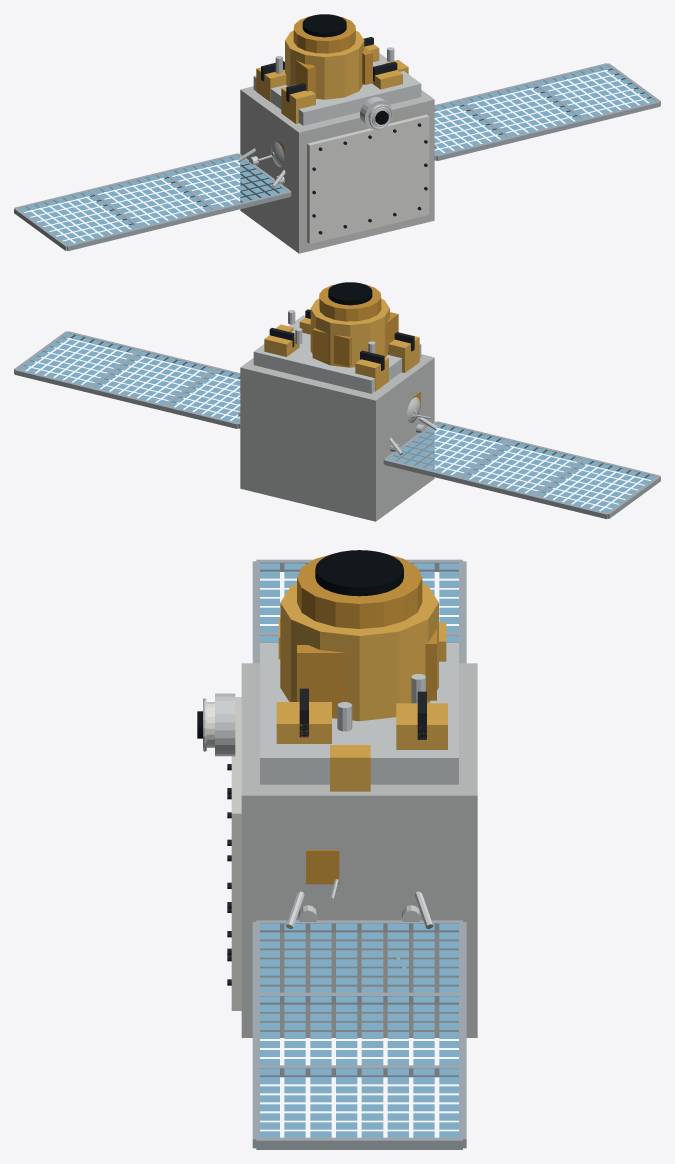
The model's file is XPOSAT.glb.
The picture shows the model from 3 angles, top to bottom: view 1: azimuth 30°, elevation 25°; view 2: azimuth 150°, elevation 25°; view 3: azimuth 270°, elevation 25°; orthographic projection. The views are drawn at different scales.
Parts seen in each view (by area): view 1: XPOSAT_CONSOLIDATED_SOLAR_CELLS, XPOSAT_FRONT_BODY_PANEL, XPOSAT_MAIN_SPACECRAFT_BUS, XPOSAT_CONSOLIDATED_SOLAR_FRAMES, XPOSAT_MAIN_XRAY_PAYLOAD_HOUSING, XPOSAT_TOP_SCIENCE_DECK, XPOSAT_UPPER_ELECTRONICS_BOXES, XPOSAT_PAYLOAD_UPPER_COLLAR, XPOSAT_MAIN_PAYLOAD_DETAILS, XPOSAT_TOP_XRAY_APERTURE, XPOSAT_UPPER_DARK_FIN_MODULES, XPOSAT_FRONT_POLARIMETER_ASSEMBLY; view 2: XPOSAT_MAIN_SPACECRAFT_BUS, XPOSAT_CONSOLIDATED_SOLAR_CELLS, XPOSAT_CONSOLIDATED_SOLAR_FRAMES, XPOSAT_TOP_SCIENCE_DECK, XPOSAT_MAIN_XRAY_PAYLOAD_HOUSING, XPOSAT_UPPER_ELECTRONICS_BOXES, XPOSAT_MAIN_PAYLOAD_DETAILS, XPOSAT_PAYLOAD_UPPER_COLLAR, XPOSAT_TOP_XRAY_APERTURE, XPOSAT_UPPER_DARK_FIN_MODULES; view 3: XPOSAT_MAIN_SPACECRAFT_BUS, XPOSAT_CONSOLIDATED_SOLAR_CELLS, XPOSAT_CONSOLIDATED_SOLAR_FRAMES, XPOSAT_TOP_SCIENCE_DECK, XPOSAT_MAIN_XRAY_PAYLOAD_HOUSING, XPOSAT_UPPER_ELECTRONICS_BOXES, XPOSAT_PAYLOAD_UPPER_COLLAR, XPOSAT_TOP_XRAY_APERTURE, XPOSAT_MAIN_PAYLOAD_DETAILS, XPOSAT_FRONT_BODY_PANEL, XPOSAT_FRONT_POLARIMETER_ASSEMBLY, XPOSAT_SIDE_EQUIPMENT_BOXES (+1 smaller).
Boxes of the visible parts, bbox=[...] form: XPOSAT_CONSOLIDATED_SOLAR_CELLS: bbox=[19, 65, 655, 244]; XPOSAT_FRONT_BODY_PANEL: bbox=[307, 114, 429, 243]; XPOSAT_MAIN_SPACECRAFT_BUS: bbox=[240, 86, 434, 253]; XPOSAT_CONSOLIDATED_SOLAR_FRAMES: bbox=[14, 63, 660, 251]; XPOSAT_MAIN_XRAY_PAYLOAD_HOUSING: bbox=[285, 31, 364, 99]; XPOSAT_TOP_SCIENCE_DECK: bbox=[253, 53, 421, 125]; XPOSAT_UPPER_ELECTRONICS_BOXES: bbox=[256, 44, 408, 123]; XPOSAT_PAYLOAD_UPPER_COLLAR: bbox=[293, 16, 355, 53]; XPOSAT_MAIN_PAYLOAD_DETAILS: bbox=[295, 47, 372, 93]; XPOSAT_TOP_XRAY_APERTURE: bbox=[302, 14, 346, 37]; XPOSAT_UPPER_DARK_FIN_MODULES: bbox=[261, 37, 397, 102]; XPOSAT_FRONT_POLARIMETER_ASSEMBLY: bbox=[360, 97, 391, 129]; XPOSAT_MAIN_SPACECRAFT_BUS: bbox=[240, 354, 434, 521]; XPOSAT_CONSOLIDATED_SOLAR_CELLS: bbox=[19, 333, 655, 512]; XPOSAT_CONSOLIDATED_SOLAR_FRAMES: bbox=[14, 331, 660, 519]; XPOSAT_TOP_SCIENCE_DECK: bbox=[253, 315, 421, 393]; XPOSAT_MAIN_XRAY_PAYLOAD_HOUSING: bbox=[310, 299, 389, 367]; XPOSAT_UPPER_ELECTRONICS_BOXES: bbox=[264, 317, 419, 391]; XPOSAT_MAIN_PAYLOAD_DETAILS: bbox=[312, 312, 398, 366]; XPOSAT_PAYLOAD_UPPER_COLLAR: bbox=[319, 284, 381, 321]; XPOSAT_TOP_XRAY_APERTURE: bbox=[328, 282, 372, 305]; XPOSAT_UPPER_DARK_FIN_MODULES: bbox=[269, 309, 414, 370]; XPOSAT_MAIN_SPACECRAFT_BUS: bbox=[241, 663, 477, 1037]; XPOSAT_CONSOLIDATED_SOLAR_CELLS: bbox=[260, 563, 458, 1137]; XPOSAT_CONSOLIDATED_SOLAR_FRAMES: bbox=[252, 559, 466, 1149]; XPOSAT_TOP_SCIENCE_DECK: bbox=[260, 642, 458, 784]; XPOSAT_MAIN_XRAY_PAYLOAD_HOUSING: bbox=[280, 583, 438, 721]; XPOSAT_UPPER_ELECTRONICS_BOXES: bbox=[276, 618, 447, 791]; XPOSAT_PAYLOAD_UPPER_COLLAR: bbox=[297, 553, 422, 628]; XPOSAT_TOP_XRAY_APERTURE: bbox=[315, 550, 403, 596]; XPOSAT_MAIN_PAYLOAD_DETAILS: bbox=[297, 629, 436, 712]; XPOSAT_FRONT_BODY_PANEL: bbox=[231, 697, 241, 1010]; XPOSAT_FRONT_POLARIMETER_ASSEMBLY: bbox=[197, 693, 235, 756]; XPOSAT_SIDE_EQUIPMENT_BOXES: bbox=[306, 850, 339, 884].
Size of the model in its own units: 7.46 by 2.46 by 1.52.
